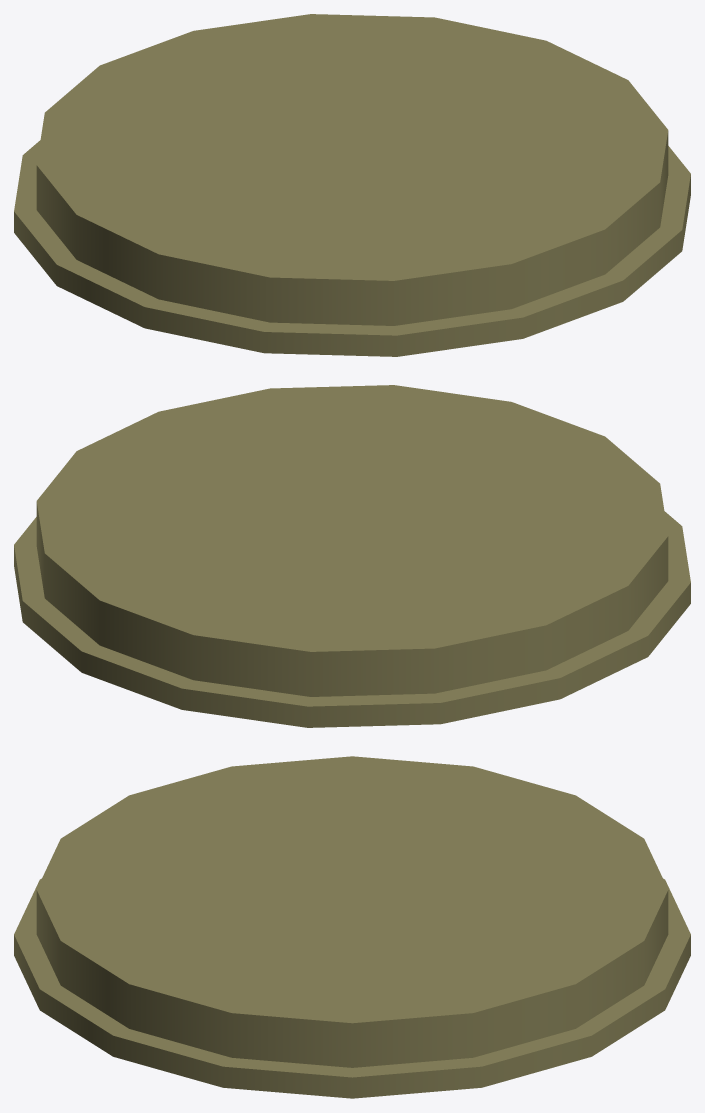
File: pedestal.fbx
3 renders of one model, top to bottom at view 1: azimuth 30°, elevation 25°; view 2: azimuth 150°, elevation 25°; view 3: azimuth 270°, elevation 25°, orthographic.
Parts seen in each view (by area): view 1: pedestal; view 2: pedestal; view 3: pedestal.
Part boxes in pixels (x1,y1,x2,y2): pedestal: (14,14,690,356); pedestal: (14,385,690,727); pedestal: (14,756,690,1098).
Size of the model in its own units: 2.14 by 0.23 by 2.14.
